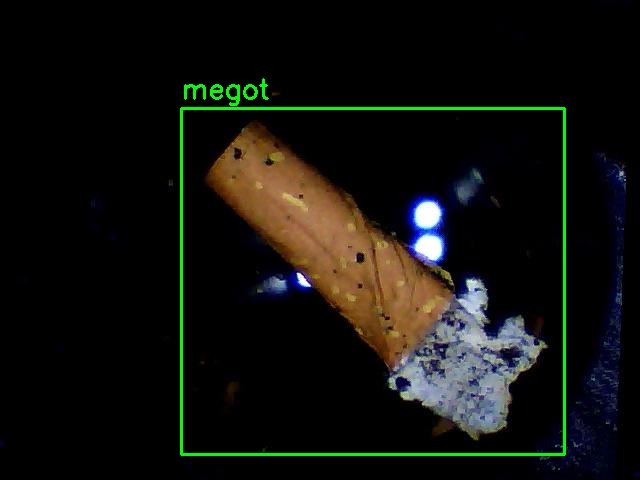megot: (181, 108, 564, 454)
